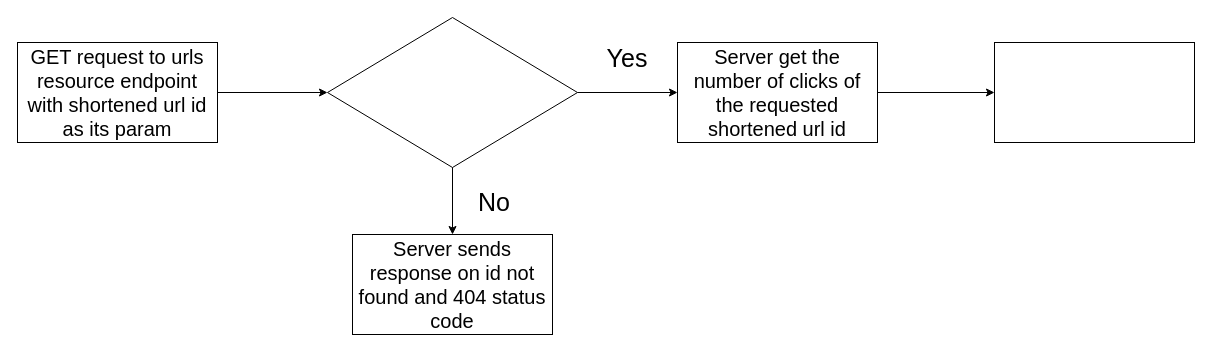
The diagram is 1212 pixels wide and 352 high, and some of its shapes have lost their labels. Each missing label, with the box of its shape:
Server checks if the requested id in url params exist on database: (326, 16, 578, 168)
Server sends response with number of clicks and 200 status code: (994, 42, 1194, 142)
